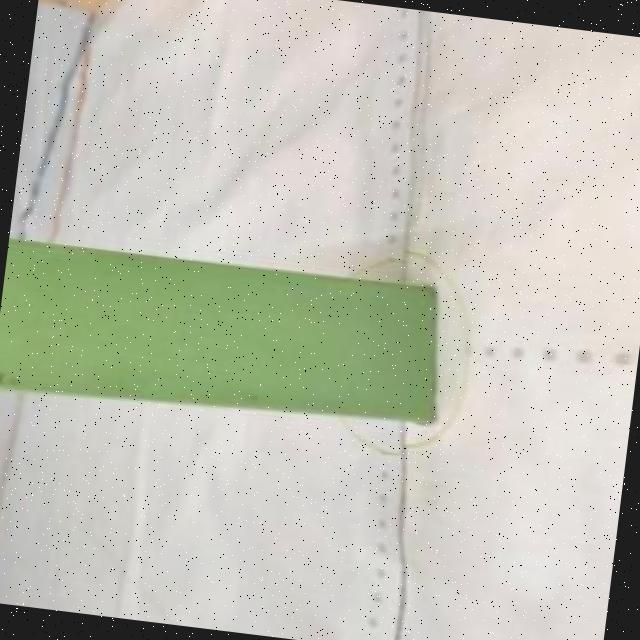greenbox: (0, 225, 453, 442)
